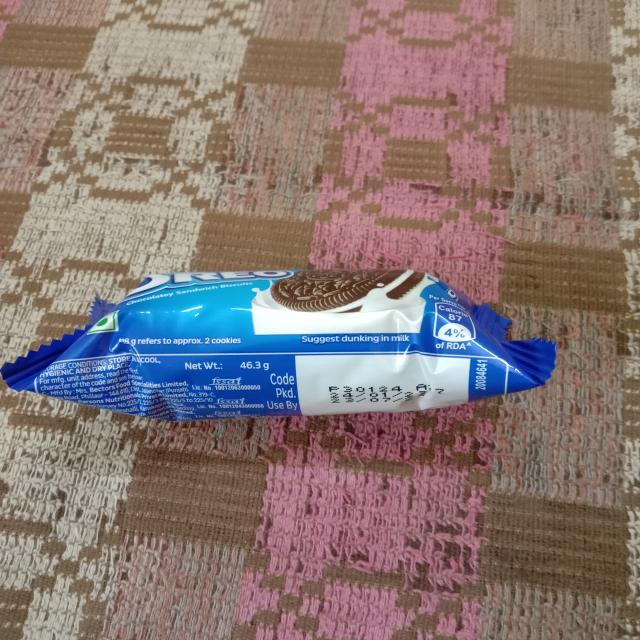oreo biscuit: (6, 257, 559, 440)
